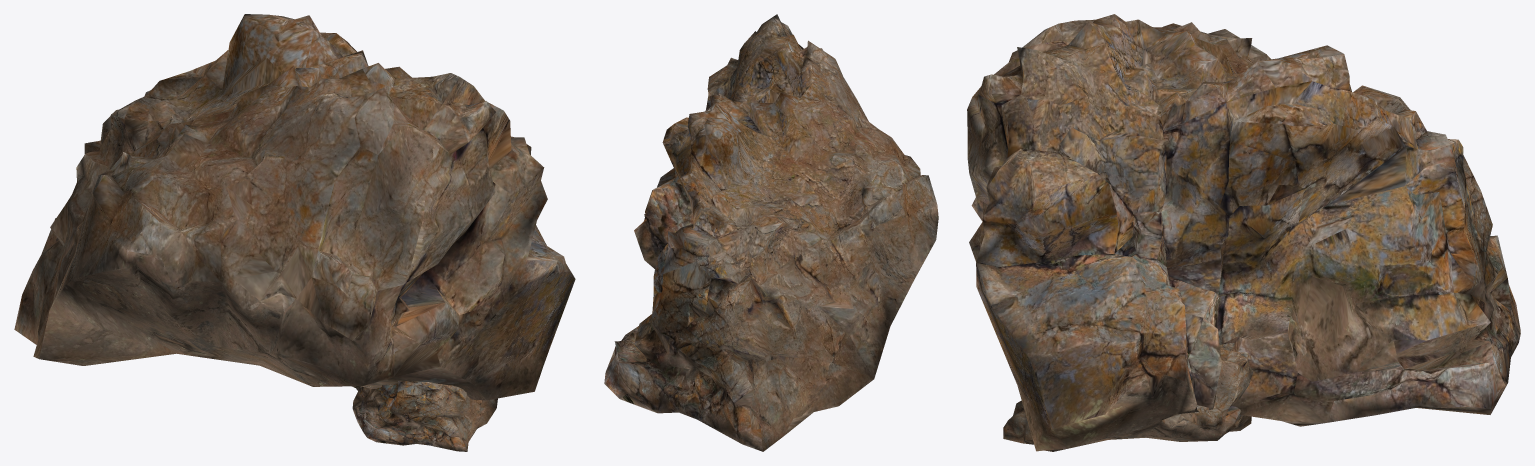
Rendered from rock.glb.
3 views of the same model, side by side, from view 1: azimuth 30°, elevation 25°; view 2: azimuth 150°, elevation 25°; view 3: azimuth 270°, elevation 25° (orthographic). The views are drawn at different scales.
Visible parts, largest first — view 1: rock_WeatheredLimestone; view 2: rock_WeatheredLimestone; view 3: rock_WeatheredLimestone.
Part boxes in pixels (x1,y1,x2,y2): rock_WeatheredLimestone: (14, 14, 575, 451); rock_WeatheredLimestone: (604, 14, 938, 451); rock_WeatheredLimestone: (967, 14, 1520, 451).
Bounding box in the file's own units: 2.7 × 2.3 × 2.94.
1 material, 1 textured.
